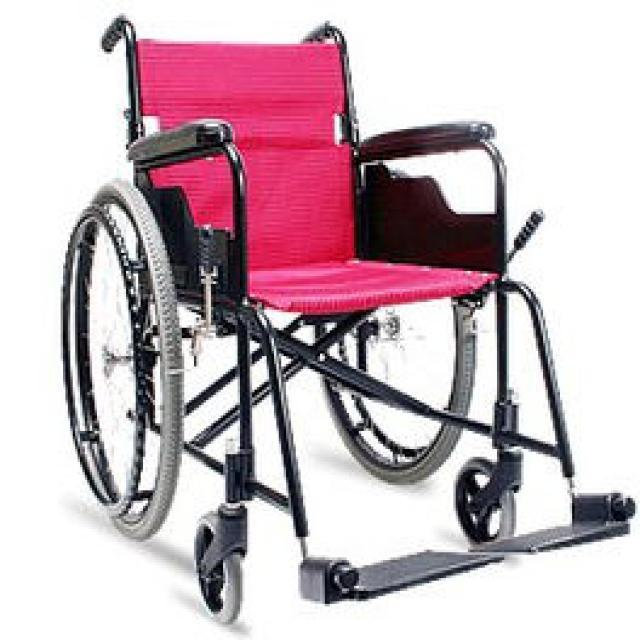wheelchair: (75, 10, 638, 622)
